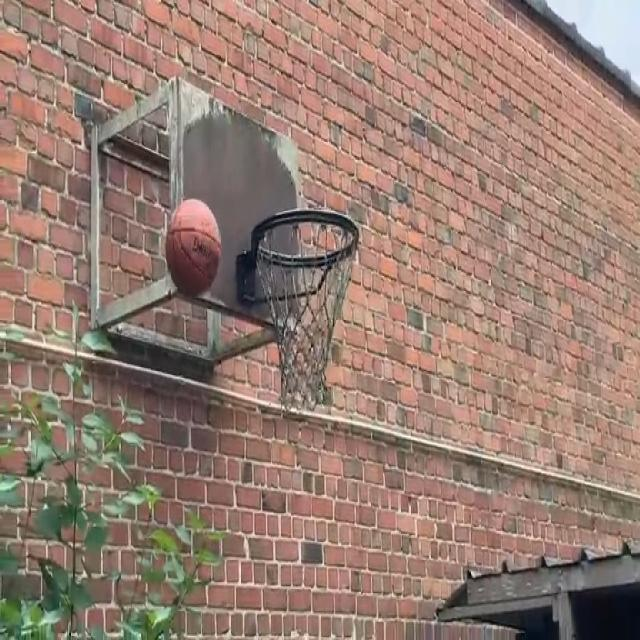Basketball: (166, 198, 221, 294)
